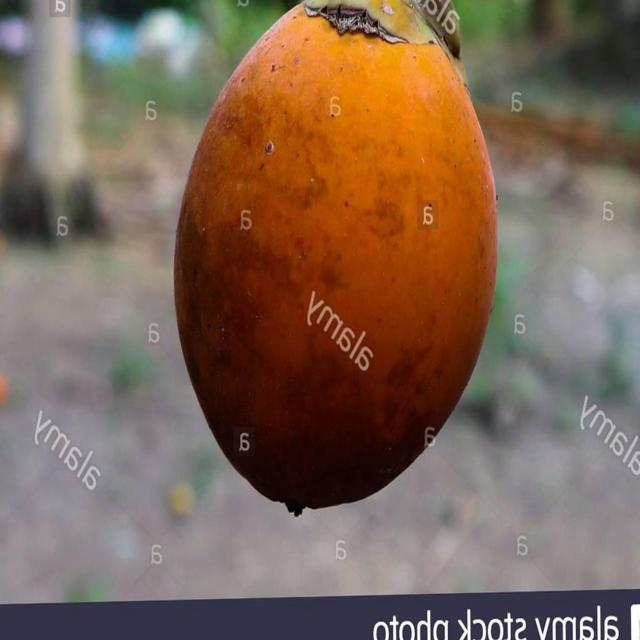good: (172, 0, 499, 517)
